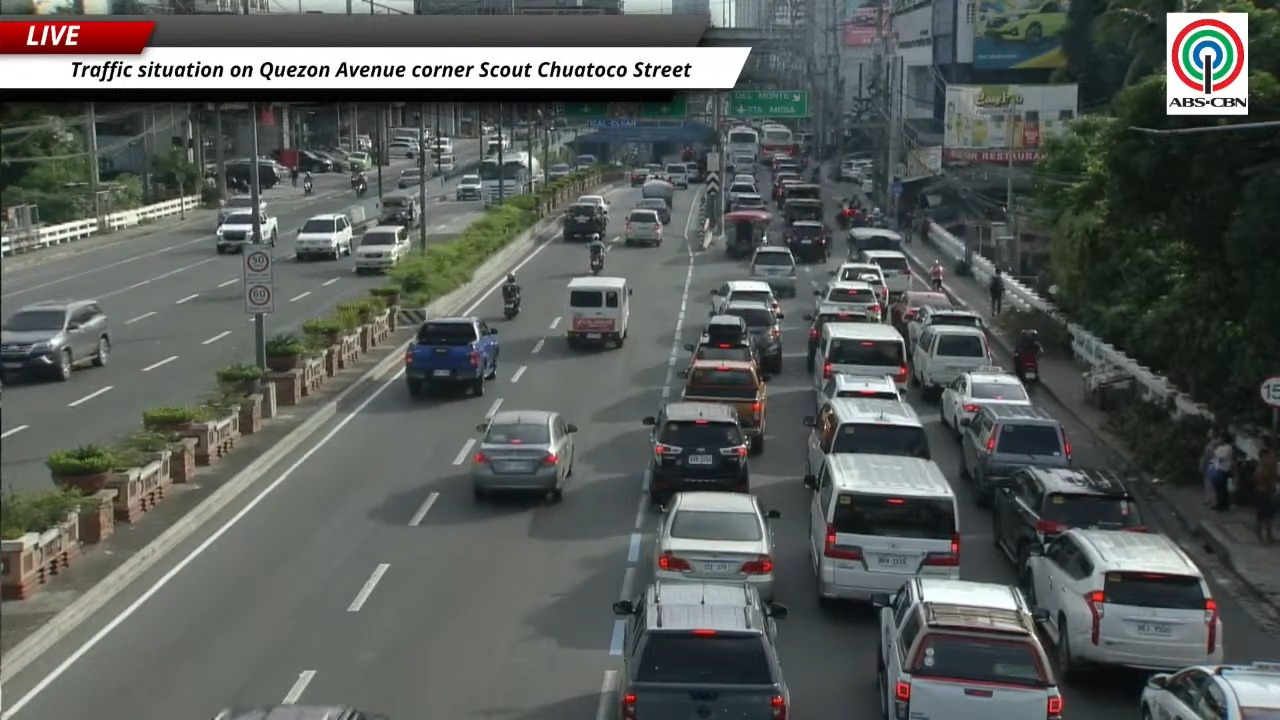bus: (478, 152, 542, 206), (759, 124, 796, 159), (724, 125, 759, 161)
car: (1022, 528, 1222, 678), (875, 578, 1062, 719), (611, 583, 790, 719), (803, 452, 960, 606), (992, 466, 1145, 572), (654, 491, 779, 601), (959, 405, 1071, 506), (643, 402, 748, 505), (470, 410, 576, 502), (803, 397, 930, 473), (0, 300, 110, 380), (1140, 662, 1279, 719), (939, 367, 1032, 437), (912, 325, 994, 398), (711, 300, 783, 374), (803, 307, 878, 372), (982, 0, 1068, 45), (680, 330, 759, 376), (890, 290, 953, 337), (907, 306, 984, 344), (815, 374, 901, 408), (354, 225, 411, 273), (857, 250, 911, 300), (831, 261, 888, 308), (294, 213, 351, 260), (213, 704, 388, 719), (814, 279, 882, 316), (749, 245, 796, 297), (711, 280, 779, 313), (782, 220, 830, 262), (563, 203, 606, 241), (849, 227, 903, 256), (623, 208, 663, 246), (703, 314, 749, 342), (216, 195, 252, 225), (574, 194, 609, 220), (635, 198, 670, 224), (725, 182, 758, 207), (297, 150, 333, 172), (455, 174, 482, 200), (257, 211, 277, 244), (730, 193, 766, 211), (427, 154, 455, 176), (386, 140, 420, 158), (664, 163, 688, 188), (346, 151, 372, 171), (397, 168, 422, 188), (548, 163, 572, 180), (628, 168, 648, 186), (644, 163, 663, 177), (730, 174, 755, 184)
motorcycle: (1015, 352, 1038, 384), (503, 297, 519, 319), (589, 252, 603, 274), (836, 210, 851, 229), (355, 183, 367, 197), (931, 277, 941, 291), (304, 181, 313, 194)
truck: (681, 360, 768, 454), (405, 317, 499, 397), (215, 211, 253, 253)
